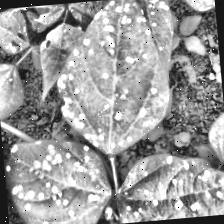Bean Rust: (54, 0, 176, 156), (3, 135, 116, 224), (115, 149, 224, 223)
